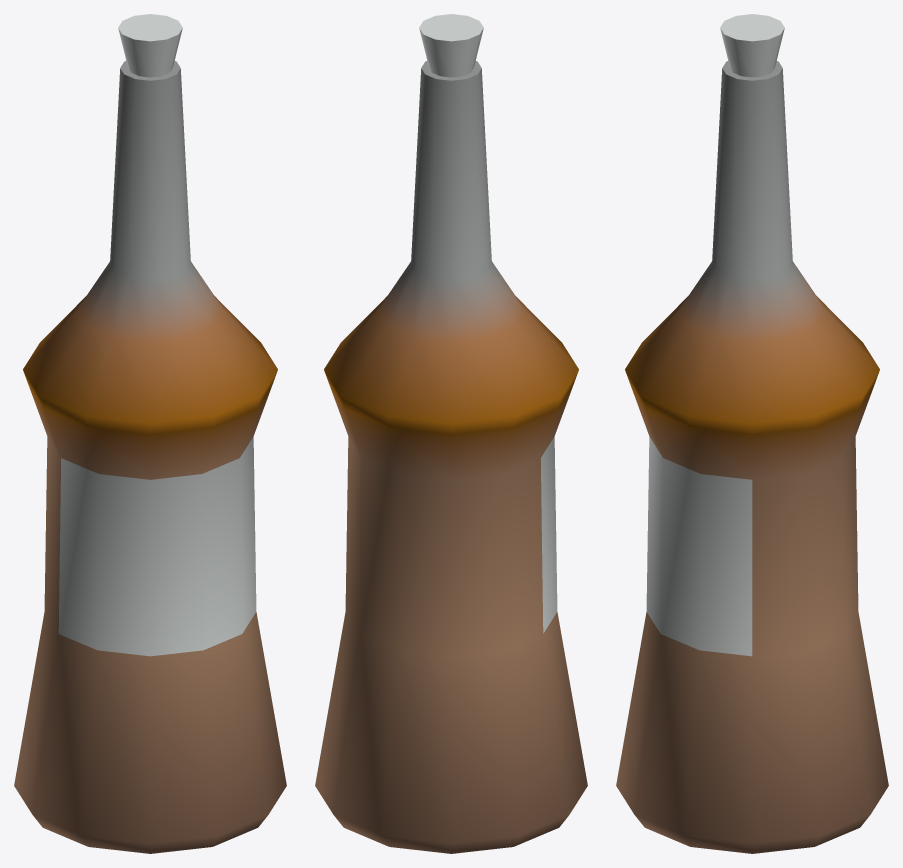
3 views of the same model, side by side, from view 1: azimuth 30°, elevation 25°; view 2: azimuth 150°, elevation 25°; view 3: azimuth 270°, elevation 25° (orthographic).
Visible parts, largest first — view 1: G:\FFXIV-MapTools\exports\r1f1\bg\ffxiv\roc_r1\fld\r1f1\bgpa (×2); view 2: G:\FFXIV-MapTools\exports\r1f1\bg\ffxiv\roc_r1\fld\r1f1\bgpa (×2); view 3: G:\FFXIV-MapTools\exports\r1f1\bg\ffxiv\roc_r1\fld\r1f1\bgpa (×2).
Boxes of the visible parts, left/top/right/bottom form: G:\FFXIV-MapTools\exports\r1f1\bg\ffxiv\roc_r1\fld\r1f1\bgpa (×2): left=14, top=14, right=286, bottom=853; G:\FFXIV-MapTools\exports\r1f1\bg\ffxiv\roc_r1\fld\r1f1\bgpa (×2): left=315, top=14, right=587, bottom=853; G:\FFXIV-MapTools\exports\r1f1\bg\ffxiv\roc_r1\fld\r1f1\bgpa (×2): left=616, top=14, right=888, bottom=853.
Size of the model in its own units: 0.1542 by 0.4824 by 0.1542.
